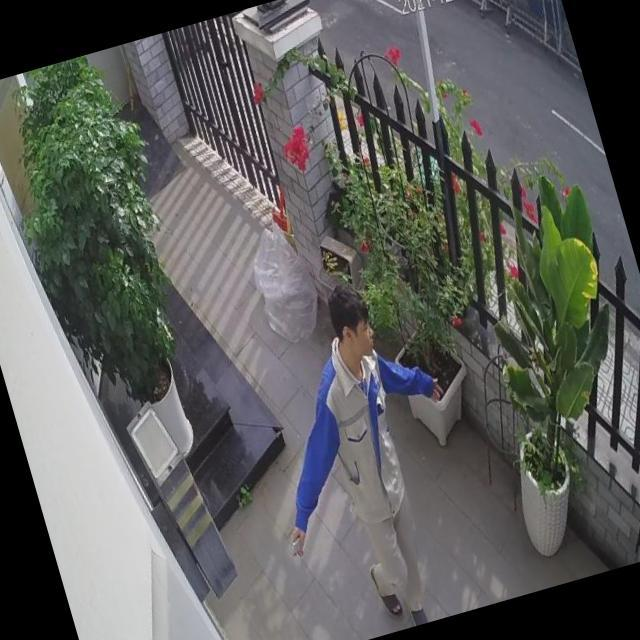person: (226, 264, 503, 640)
